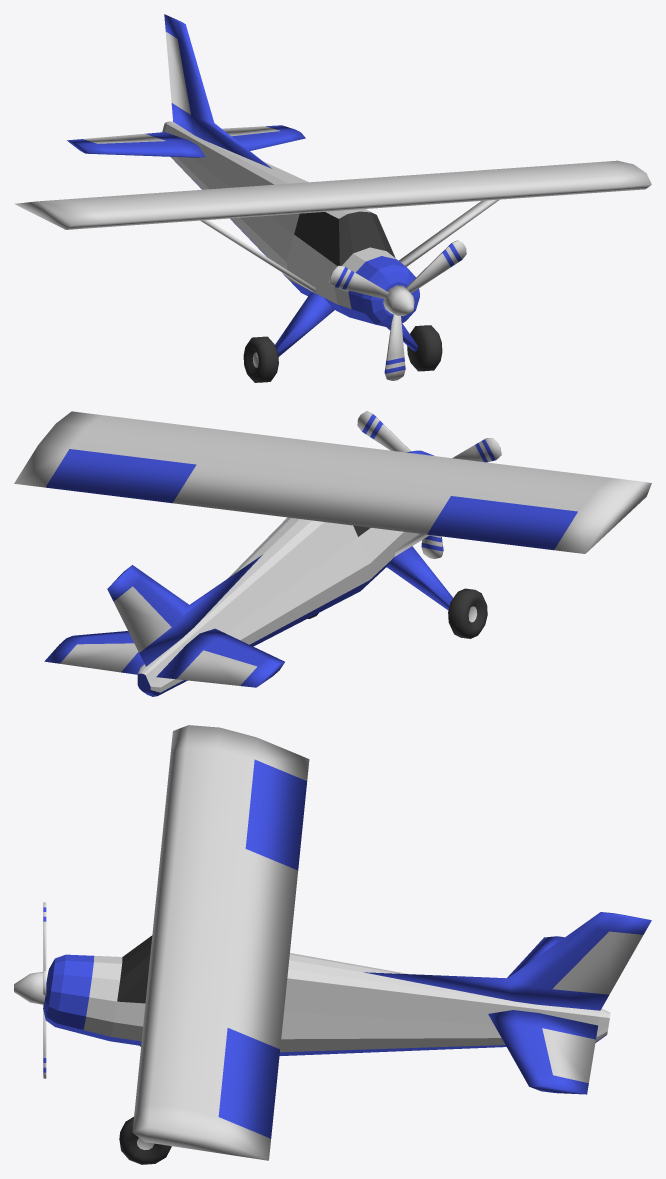
File: airplane.glb
3 renders of one model, top to bottom at view 1: azimuth 30°, elevation 25°; view 2: azimuth 150°, elevation 25°; view 3: azimuth 270°, elevation 25°, orthographic. The views are drawn at different scales.
Parts seen in each view (by area): view 1: Plane.035, Plane, Circle.007; view 2: Plane.035, Plane, Circle.007; view 3: Plane.035, Plane, Circle.007.
Part boxes in pixels (left/top/right/bottom): Plane.035: left=15, top=14, right=651, bottom=382; Plane: left=162, top=121, right=419, bottom=327; Circle.007: left=329, top=240, right=466, bottom=380; Plane.035: left=14, top=411, right=651, bottom=687; Plane: left=137, top=450, right=433, bottom=696; Circle.007: left=357, top=411, right=501, bottom=558; Plane.035: left=119, top=725, right=651, bottom=1164; Plane: left=43, top=935, right=610, bottom=1055; Circle.007: left=14, top=902, right=46, bottom=1078.
Size of the model in its own units: 8.2 by 3.12 by 7.13.
